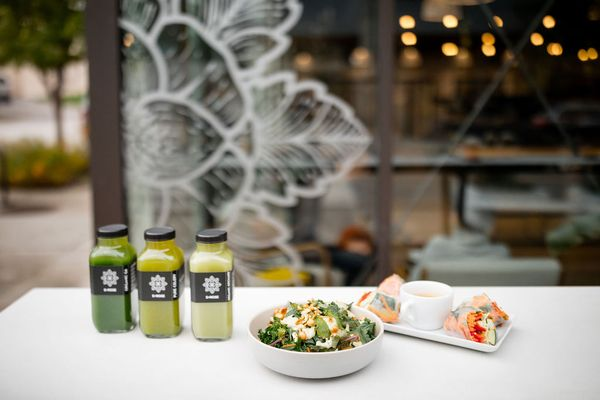pizza: (397, 280, 453, 330)
sushi: (248, 295, 385, 379)
